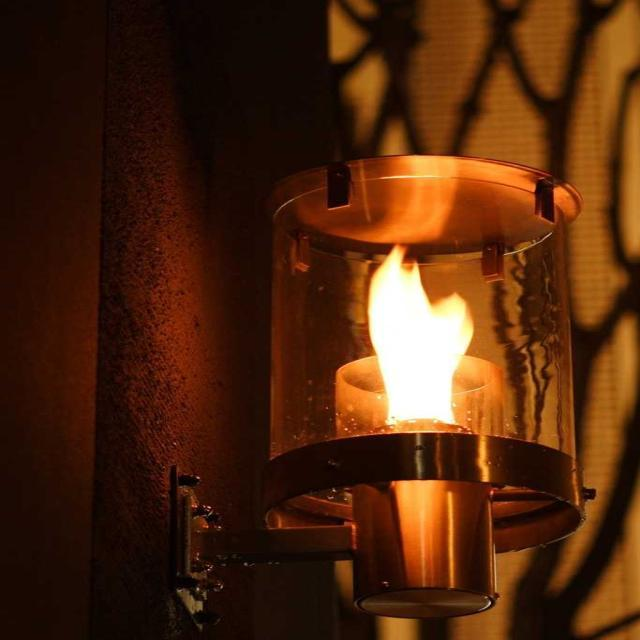Fire: (350, 267, 498, 418)
